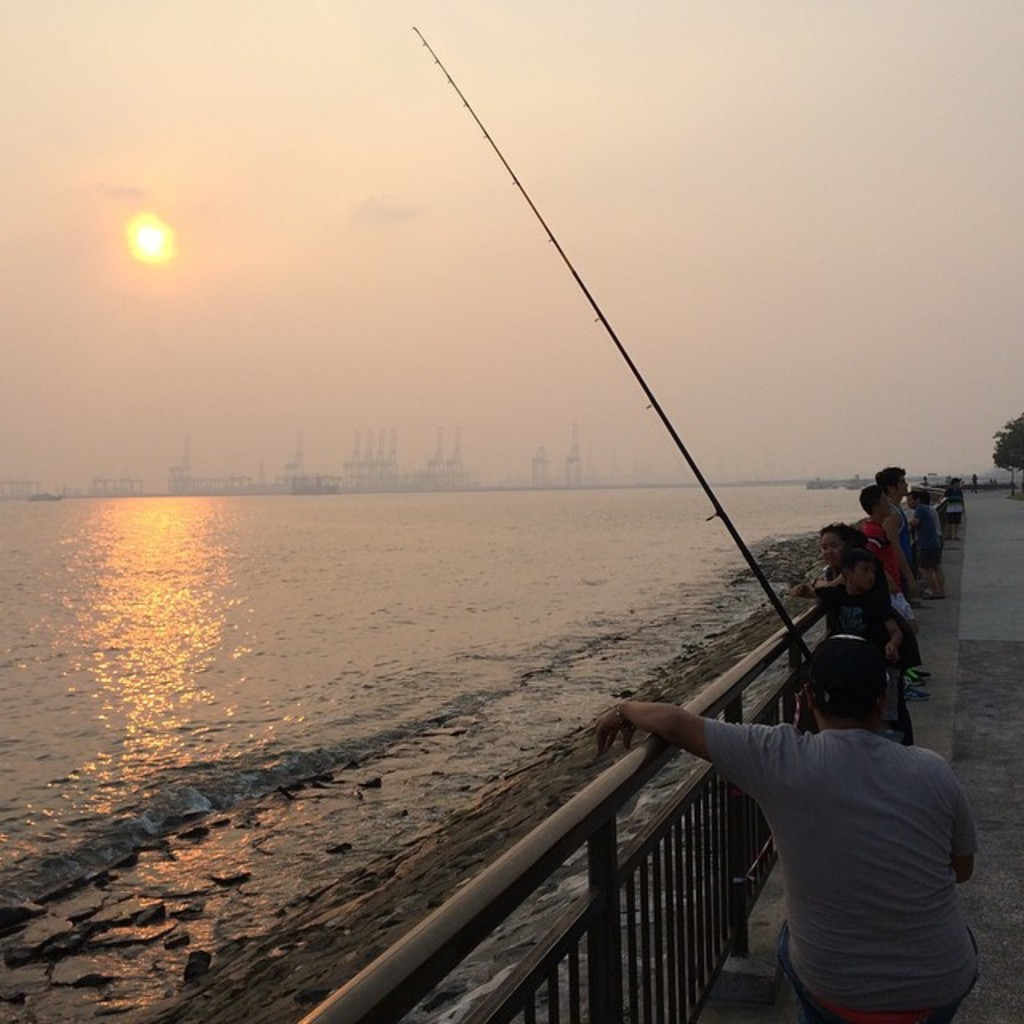Person: (596, 466, 981, 1024)
